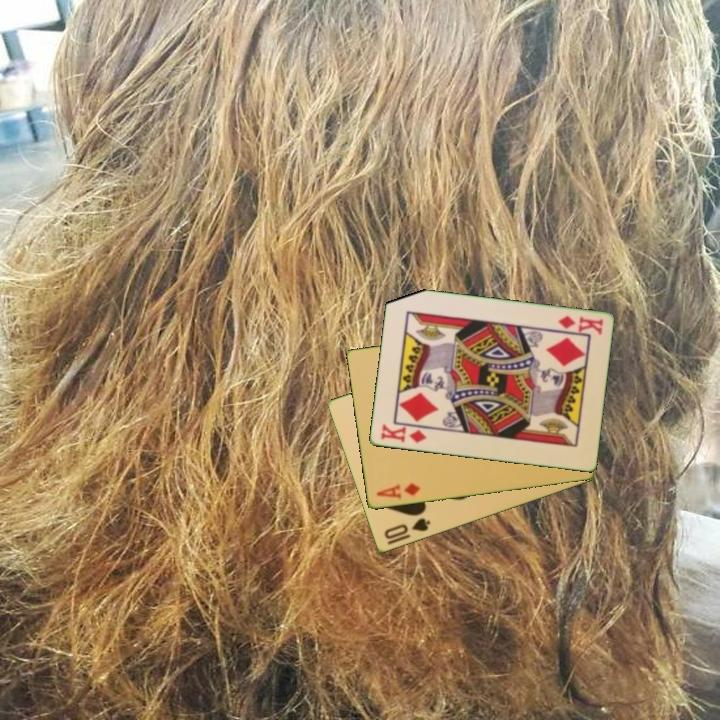10s: (380, 515, 433, 542)
Ad: (373, 480, 423, 503)
Kd: (377, 421, 429, 447), (554, 312, 606, 337)
